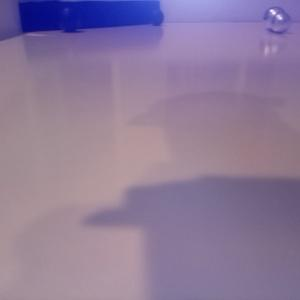alive_ball: (262, 6, 286, 31), (271, 12, 291, 33)
dead_ball: (57, 6, 81, 32), (149, 9, 164, 25)
